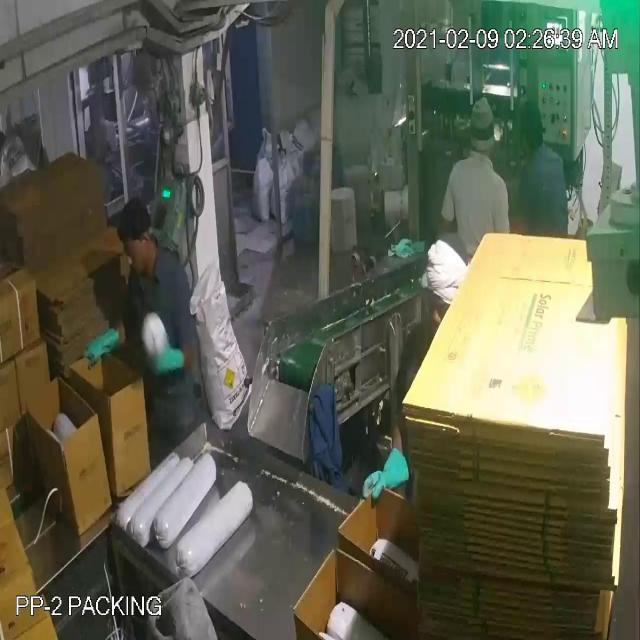Gloves: (44, 54, 386, 480)
